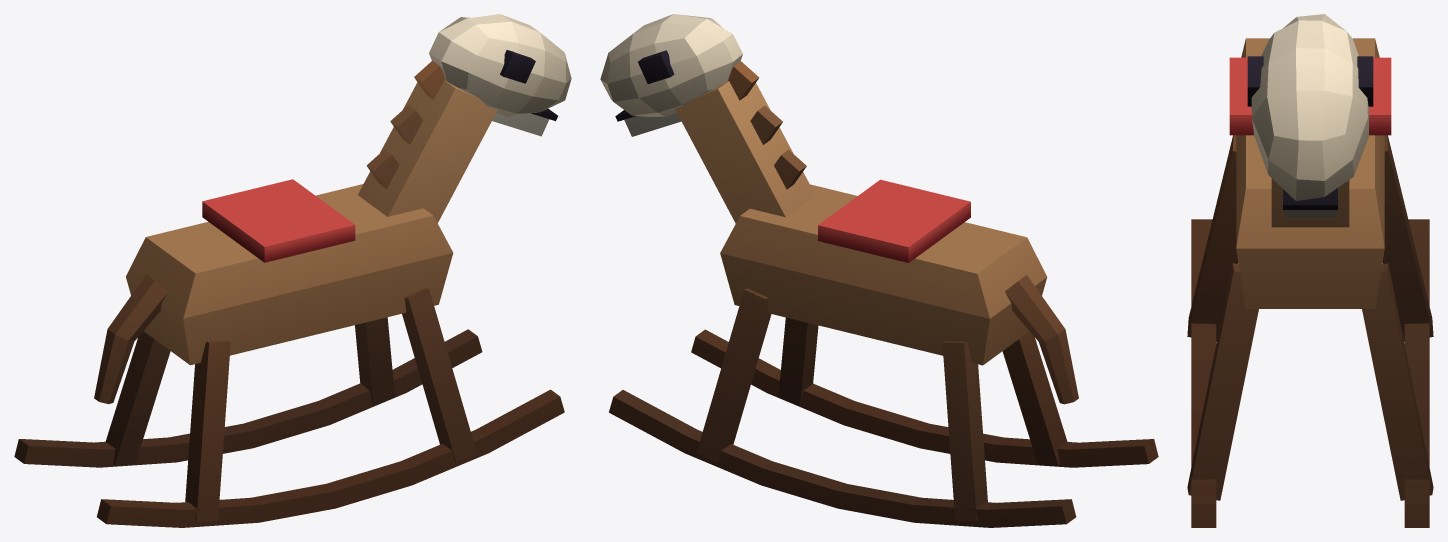
Rendered from PlayGround_Kit_Rocking_Horse.fbx.
3 views of the same model, side by side, from view 1: azimuth 30°, elevation 25°; view 2: azimuth 150°, elevation 25°; view 3: azimuth 270°, elevation 25° (orthographic). The views are drawn at different scales.
Visible parts, largest first — view 1: PlayGround_Kit_Rocking_Horse; view 2: PlayGround_Kit_Rocking_Horse; view 3: PlayGround_Kit_Rocking_Horse.
Boxes of the visible parts, <box> form: PlayGround_Kit_Rocking_Horse: <box>14,14,571,527</box>; PlayGround_Kit_Rocking_Horse: <box>600,14,1158,527</box>; PlayGround_Kit_Rocking_Horse: <box>1187,14,1433,527</box>.
Bounding box in the file's own units: 2.35 × 1.81 × 0.7618.
